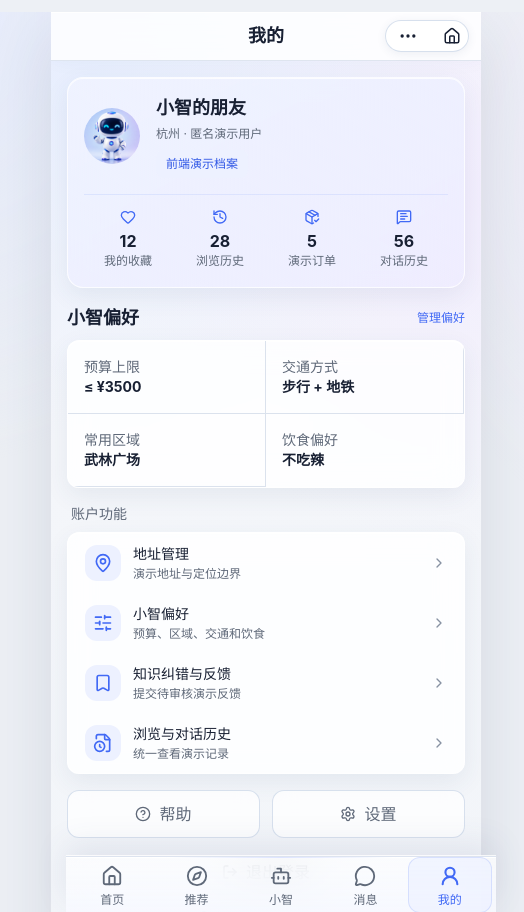
primary product pages › links the profile hub to every secondary account destination
Expected: the element "账户功能" is shown, [67,504,465,774]
Click the button "帮助": (164, 814) [67,790,260,838]
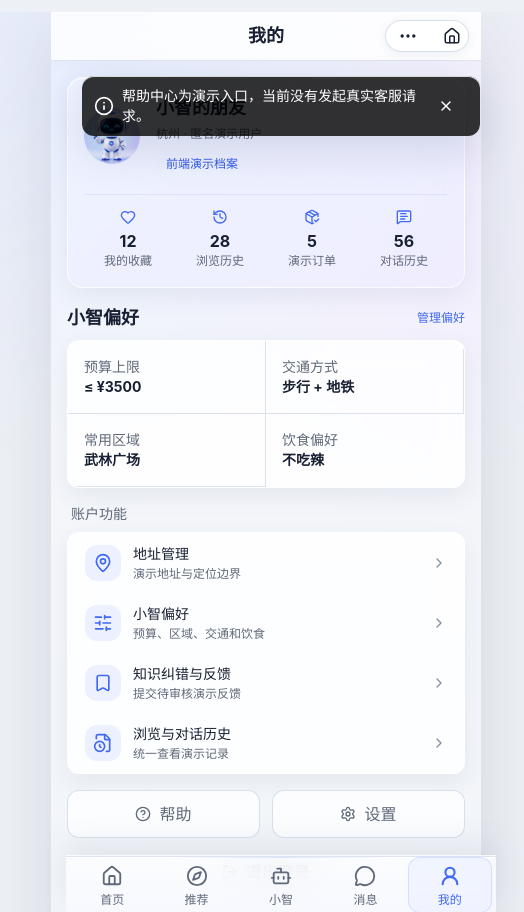
Now the text "帮助中心为演示入口，当前没有发起真实客服请求。" is shown, box [122,86,416,126]
